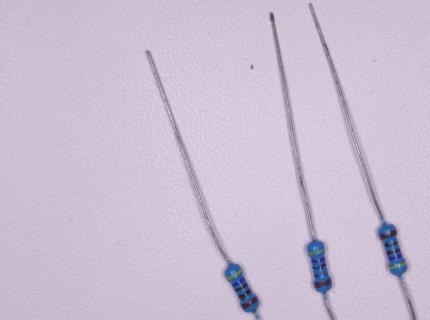Black band: (238, 288, 252, 300), (235, 282, 249, 292), (312, 263, 327, 270), (386, 248, 401, 255), (314, 272, 329, 278), (384, 241, 398, 247)
Brown band: (240, 296, 258, 309), (314, 278, 332, 288), (379, 229, 397, 239)
Violet band: (232, 277, 246, 287), (388, 254, 403, 262), (311, 257, 325, 264)
Yellow band: (226, 269, 244, 281), (389, 261, 407, 270), (307, 249, 325, 256)
